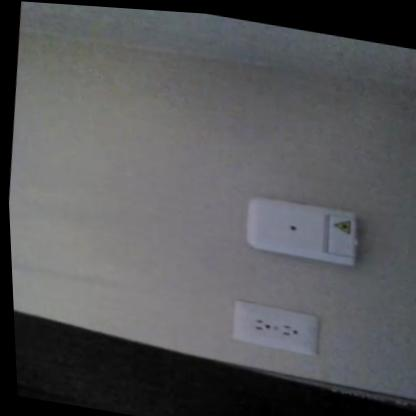OUTLET: (229, 297, 319, 355)
